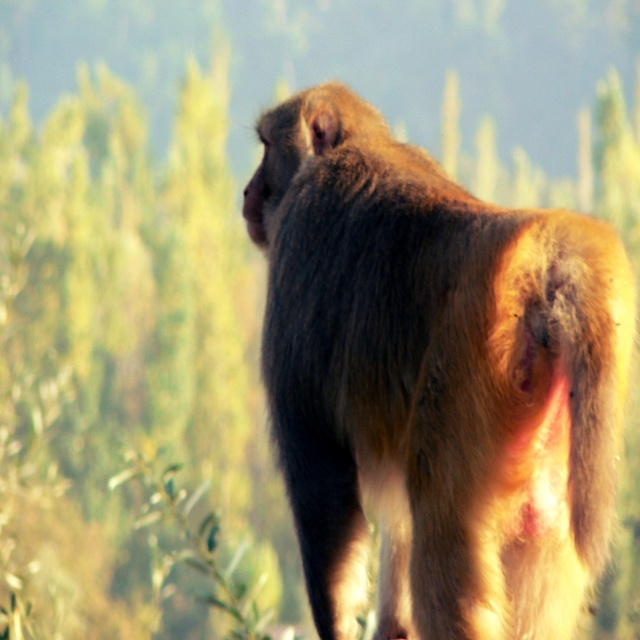Monkey: (238, 47, 640, 640)
